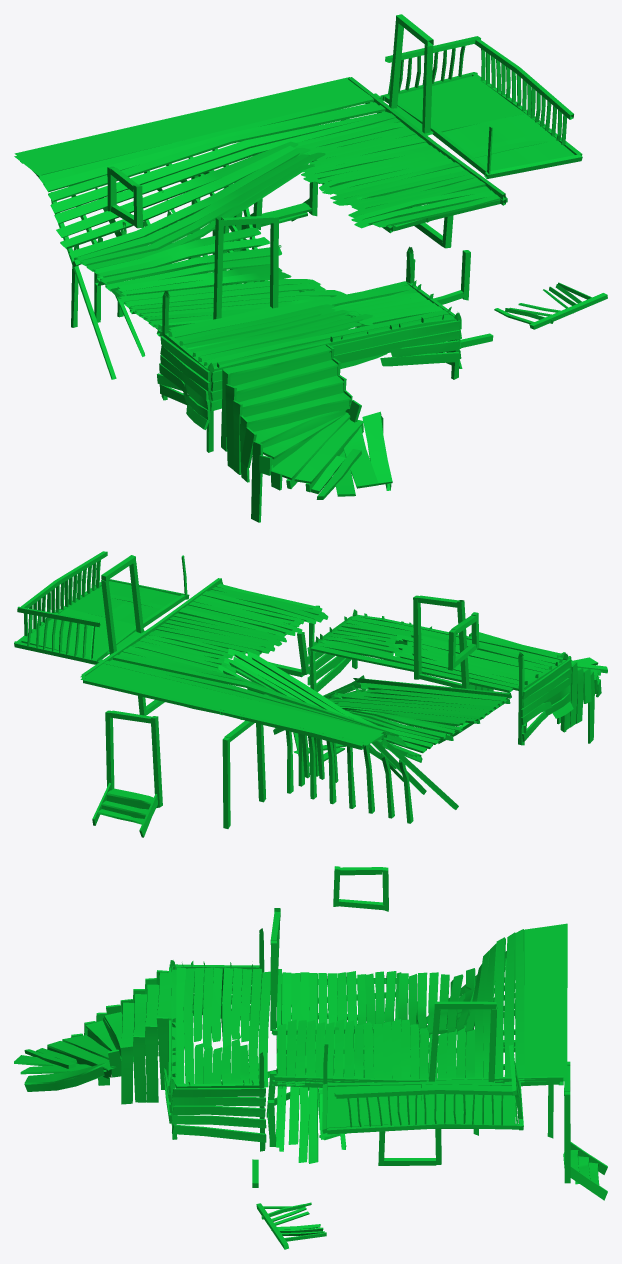
File: MI_SmallLodge_WoodPlank07.fbx
3 renders of one model, top to bottom at view 1: azimuth 30°, elevation 25°; view 2: azimuth 150°, elevation 25°; view 3: azimuth 270°, elevation 25°, orthographic. The views are drawn at different scales.
Parts seen in each view (by area): view 1: SM_ST_SmallLodge01.mo; view 2: SM_ST_SmallLodge01.mo; view 3: SM_ST_SmallLodge01.mo.
Part boxes in pixels (x1,y1,x2,y2): SM_ST_SmallLodge01.mo: (14,14,607,522); SM_ST_SmallLodge01.mo: (14,551,607,837); SM_ST_SmallLodge01.mo: (14,866,607,1249).
Bounding box in the file's own units: 1331 × 1596 × 717.
